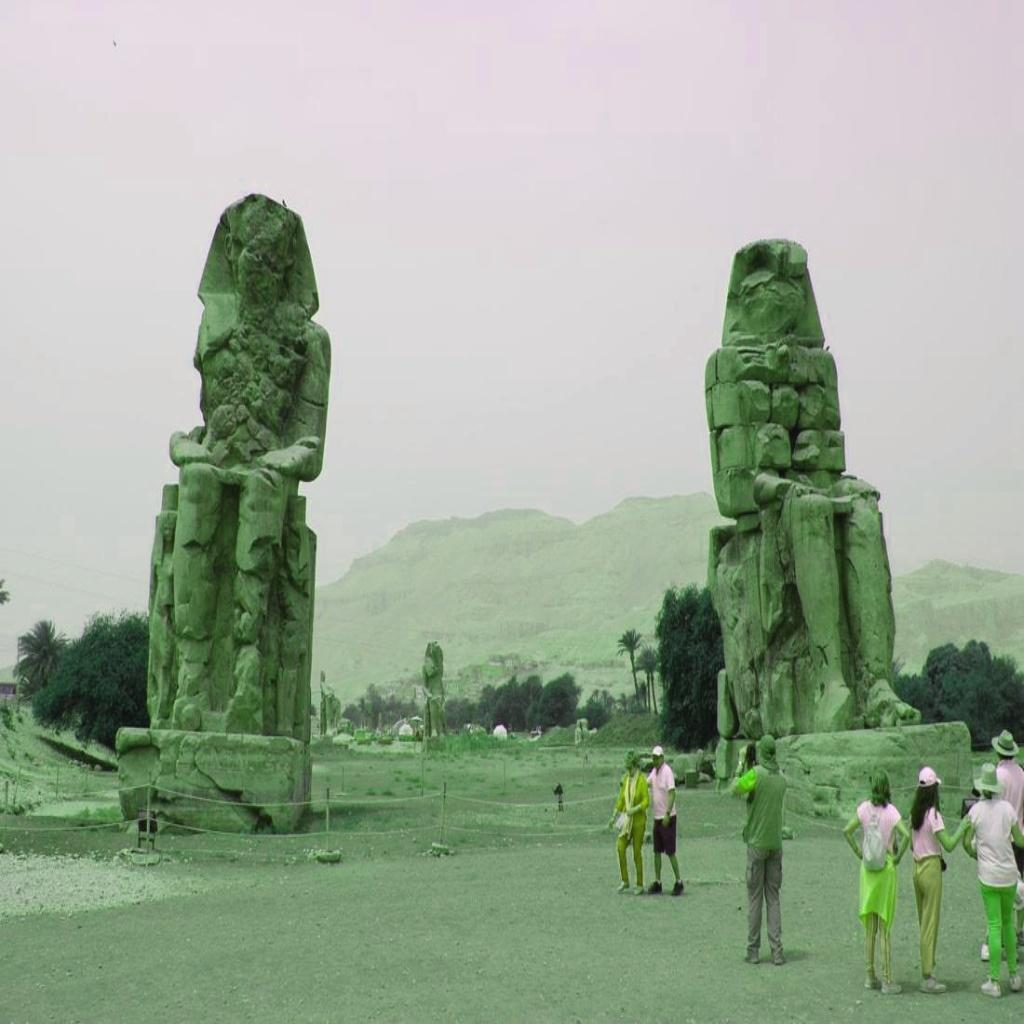Colossoi of Memnon: (112, 188, 334, 836), (700, 234, 918, 762)
